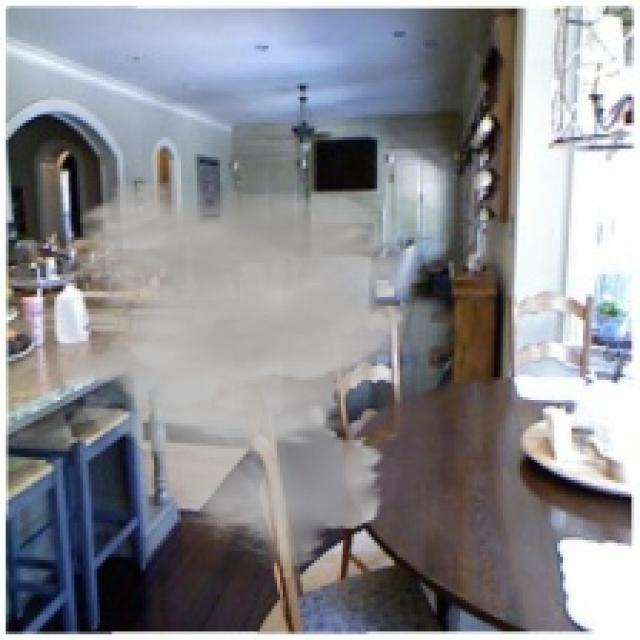smoke: (60, 180, 471, 580)
